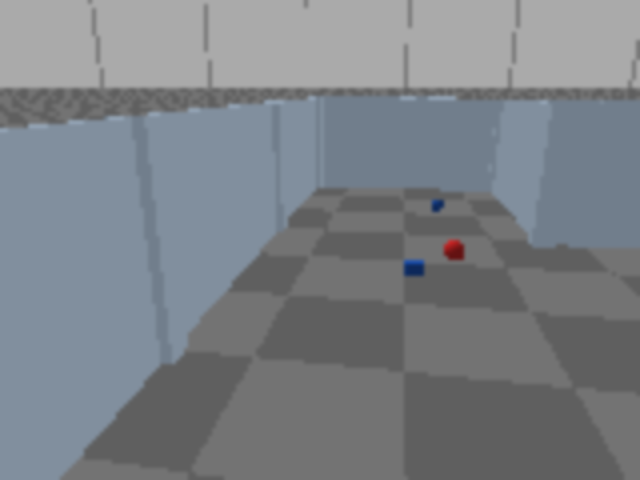puck: (439, 237, 471, 265), (405, 259, 423, 276), (429, 197, 447, 213)
